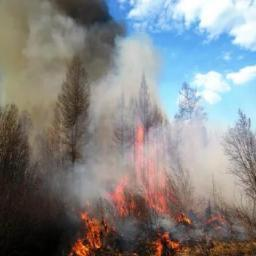Heavy smoke: (2, 0, 256, 241)
Small fire: (65, 120, 219, 256)
